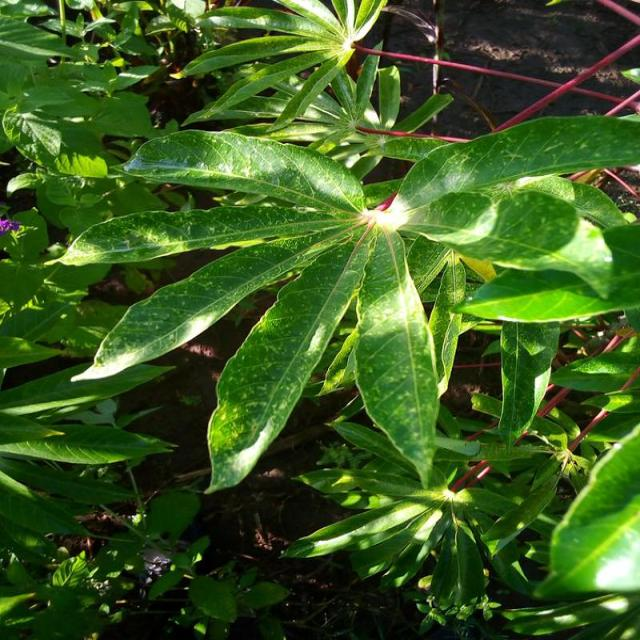cassava leaf: (52, 110, 638, 495), (202, 223, 374, 495), (353, 226, 440, 488), (122, 127, 366, 216)
